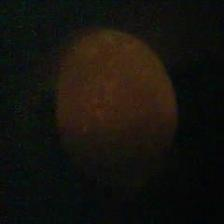fertile: (51, 29, 182, 182)
